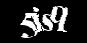5: (20, 13, 37, 37)
i: (31, 7, 43, 32)
q: (49, 5, 66, 31)
s: (41, 14, 54, 30)
